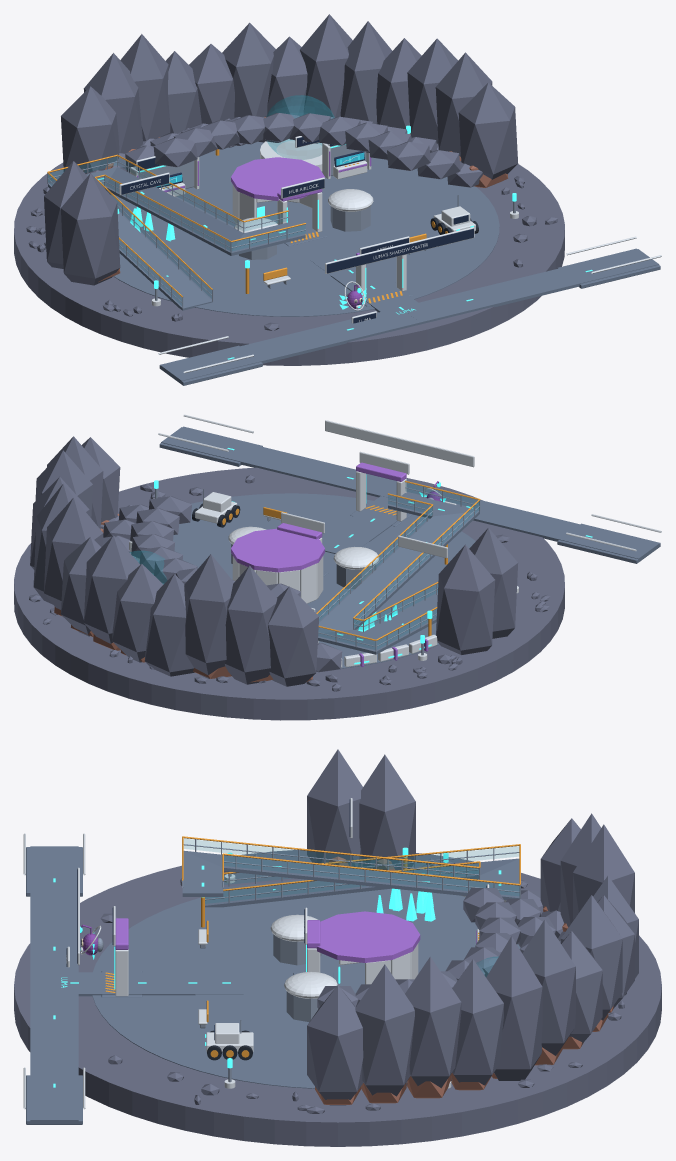
Rendered from luma.glb.
3 renders of one model, top to bottom at view 1: azimuth 30°, elevation 25°; view 2: azimuth 150°, elevation 25°; view 3: azimuth 270°, elevation 25°, orthographic. The views are drawn at different scales.
Parts seen in each view (by area): view 1: BATCH_luma rock.003, BATCH_luma floor.003, BATCH_luma white.003, BATCH_luma glass.003, BATCH_luma steel.003, BATCH_luma navy.003, BATCH_luma accent.003, BATCH_luma orange.003, BATCH_luma cyan.003; view 2: BATCH_luma rock.003, BATCH_luma floor.003, BATCH_luma white.003, BATCH_luma glass.003, BATCH_luma accent.003, BATCH_luma steel.003, BATCH_luma orange.003, BATCH_luma rust.003, BATCH_luma cyan.003; view 3: BATCH_luma rock.003, BATCH_luma floor.003, BATCH_luma glass.003, BATCH_luma white.003, BATCH_luma accent.003, BATCH_luma steel.003, BATCH_luma orange.003, BATCH_luma rust.003, BATCH_luma cyan.003.
Boxes of the visible parts, <box> form: BATCH_luma rock.003: <box>14,14,564,365</box>; BATCH_luma floor.003: <box>48,141,660,385</box>; BATCH_luma white.003: <box>119,136,661,373</box>; BATCH_luma glass.003: <box>48,95,334,305</box>; BATCH_luma steel.003: <box>47,144,515,308</box>; BATCH_luma navy.003: <box>121,137,473,323</box>; BATCH_luma accent.003: <box>137,151,371,255</box>; BATCH_luma orange.003: <box>47,133,447,303</box>; BATCH_luma cyan.003: <box>98,125,592,359</box>; BATCH_luma rock.003: <box>14,436,564,720</box>; BATCH_luma floor.003: <box>159,426,660,668</box>; BATCH_luma white.003: <box>129,414,661,667</box>; BATCH_luma glass.003: <box>130,483,479,649</box>; BATCH_luma accent.003: <box>231,462,428,667</box>; BATCH_luma steel.003: <box>130,486,480,655</box>; BATCH_luma orange.003: <box>222,480,480,640</box>; BATCH_luma rust.003: <box>54,514,312,682</box>; BATCH_luma cyan.003: <box>154,448,592,664</box>; BATCH_luma rock.003: <box>14,749,661,1146</box>; BATCH_luma floor.003: <box>26,846,520,1124</box>; BATCH_luma glass.003: <box>184,839,519,976</box>; BATCH_luma white.003: <box>23,798,506,1109</box>; BATCH_luma accent.003: <box>115,911,476,962</box>; BATCH_luma steel.003: <box>182,839,520,1082</box>; BATCH_luma orange.003: <box>105,836,520,1057</box>; BATCH_luma rust.003: <box>315,856,613,1104</box>; BATCH_luma cyan.003: <box>53,847,501,1087</box>.
Bounding box in the file's own units: 48 × 14.42 × 48.
